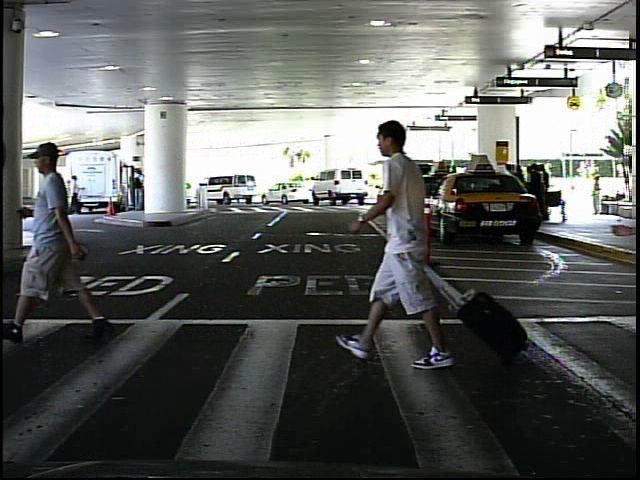person: (367, 111, 465, 377), (65, 171, 84, 221), (588, 172, 607, 218)
